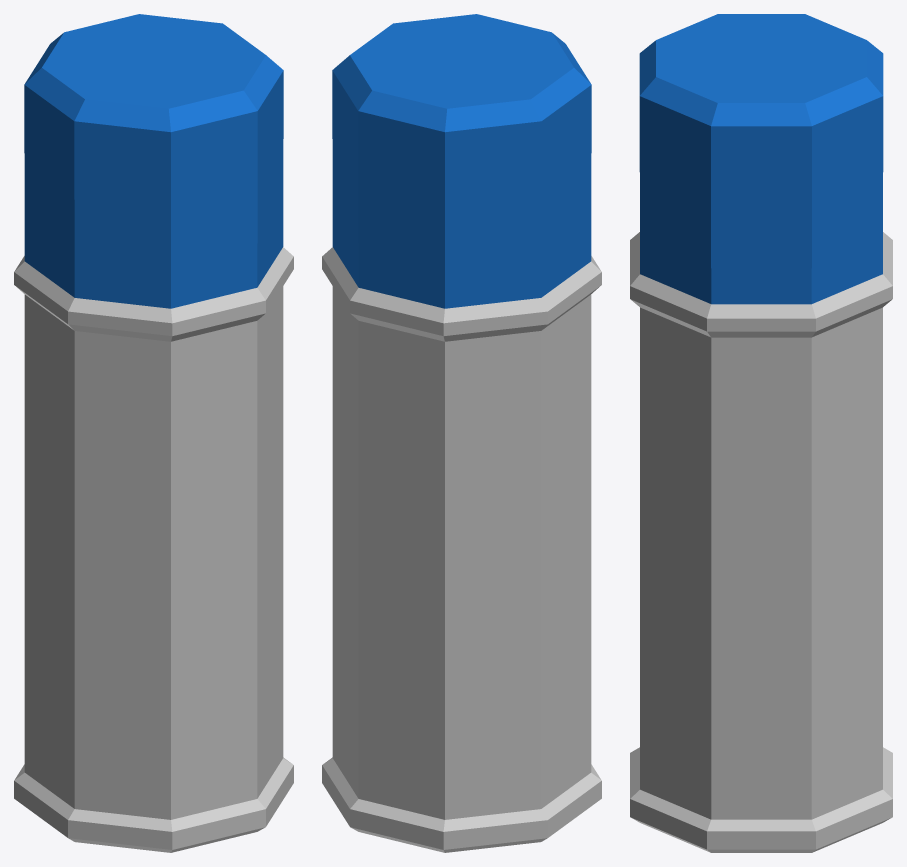
File: space_paint.fbx
3 views of the same model, side by side, from view 1: azimuth 30°, elevation 25°; view 2: azimuth 150°, elevation 25°; view 3: azimuth 270°, elevation 25° (orthographic).
Visible parts, largest first — view 1: Cylinder_129, Cylinder_120; view 2: Cylinder_129, Cylinder_120; view 3: Cylinder_129, Cylinder_120.
Part boxes in pixels (left/top/right/bottom): Cylinder_129: left=14, top=247, right=293, bottom=852; Cylinder_120: left=24, top=14, right=283, bottom=308; Cylinder_129: left=322, top=247, right=601, bottom=852; Cylinder_120: left=332, top=14, right=591, bottom=308; Cylinder_129: left=630, top=232, right=892, bottom=852; Cylinder_120: left=639, top=14, right=883, bottom=304.
Size of the model in its own units: 7.05 by 22 by 7.05.
